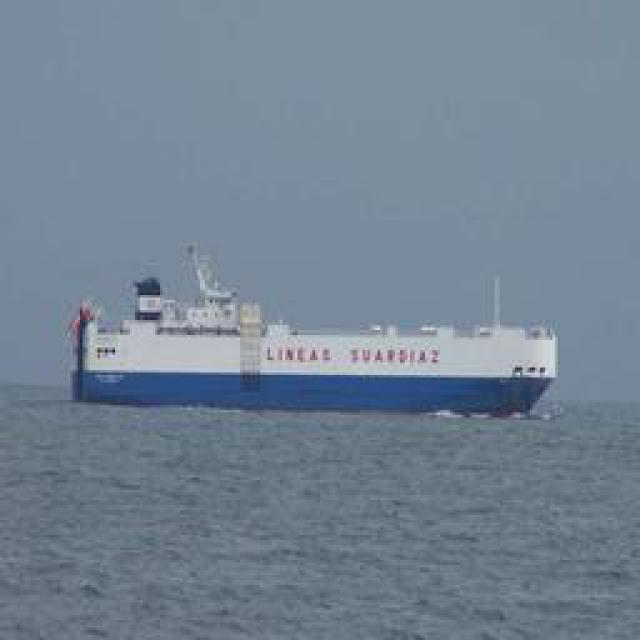Ship: (66, 257, 564, 415)
